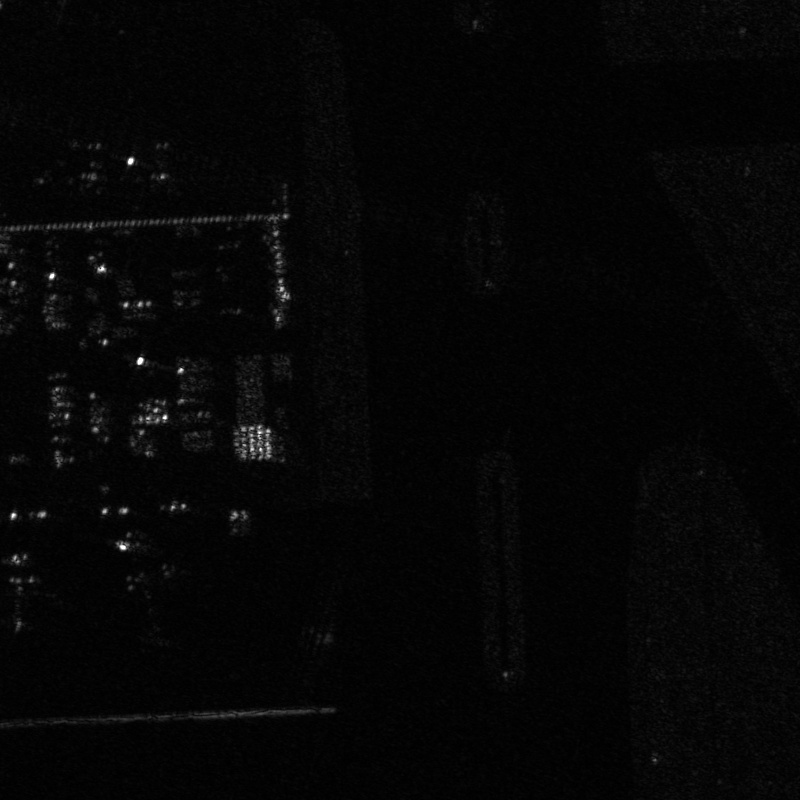ARJ21: (68, 132, 118, 195)
Boeing737: (105, 526, 186, 637), (1, 541, 70, 640)
other: (134, 133, 194, 195)
